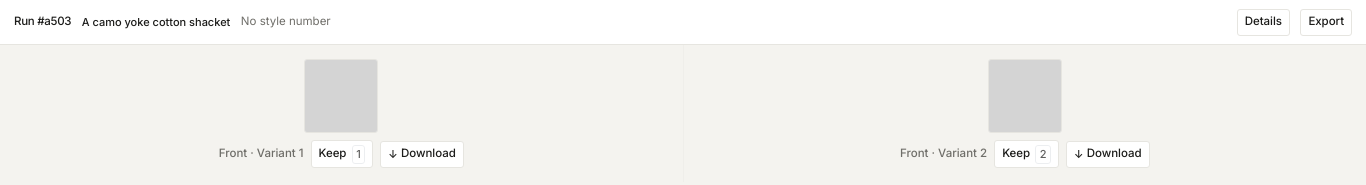
it: stage › leaves solo on Escape
The image size is (1366, 185).
Click the 2nd button named "variant 2" at (1025, 96), box left=698, top=59, right=1352, bottom=133
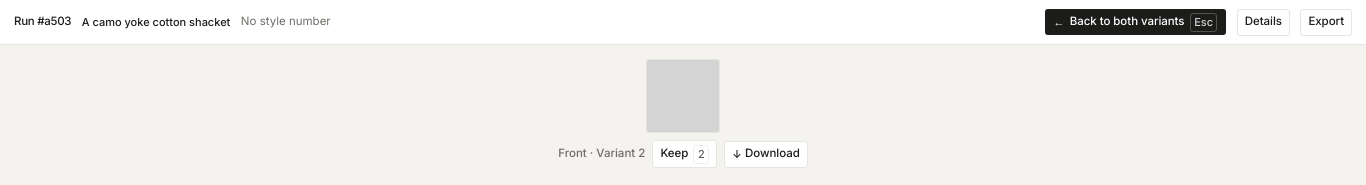
Press Escape
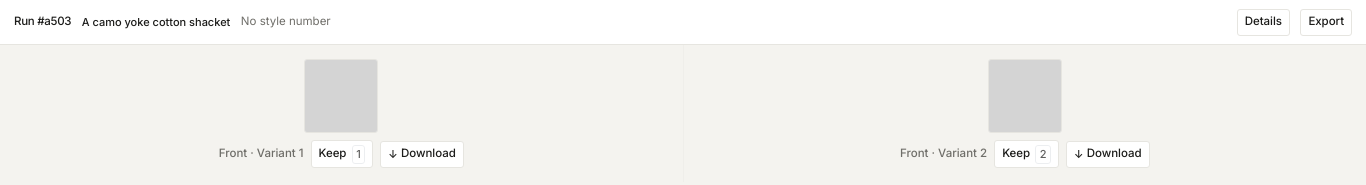
Expected: the text "Front · Variant 1" is shown, left=219, top=145, right=304, bottom=163
